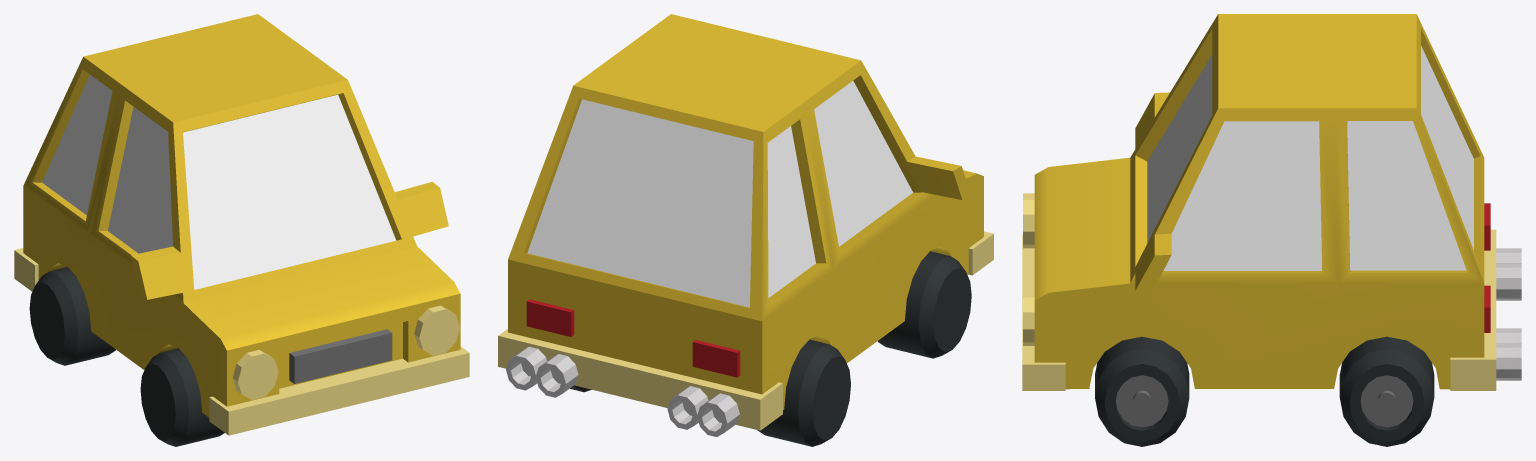
File: obj_car1_3.fbx
The picture shows the model from 3 angles, left to right: view 1: azimuth 30°, elevation 25°; view 2: azimuth 150°, elevation 25°; view 3: azimuth 270°, elevation 25°; orthographic projection. The views are drawn at different scales.
Visible parts, largest first — view 1: obj_car1_3; view 2: obj_car1_3; view 3: obj_car1_3.
Part boxes in pixels (x1,y1,x2,y2): obj_car1_3: [14, 14, 469, 446]; obj_car1_3: [498, 14, 993, 446]; obj_car1_3: [1022, 14, 1521, 446].
Bounding box in the file's own units: 1.34 × 1.22 × 1.74.
Materials: 2 (2 with a texture image).
